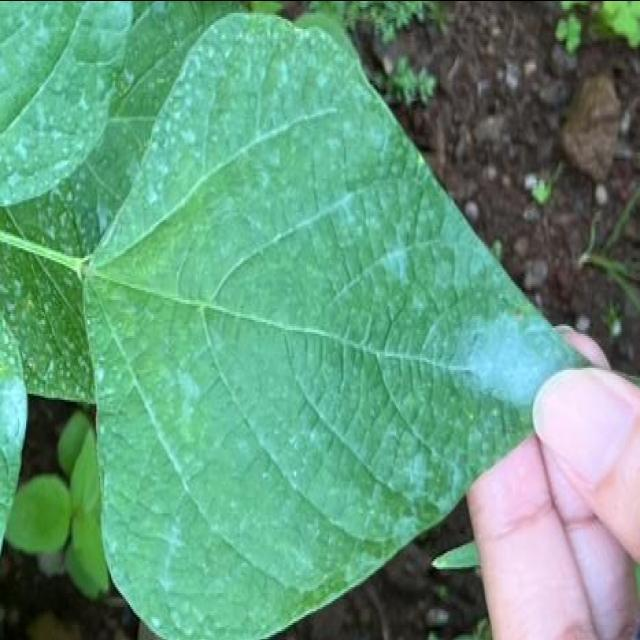embun tepung: (453, 305, 544, 413)
